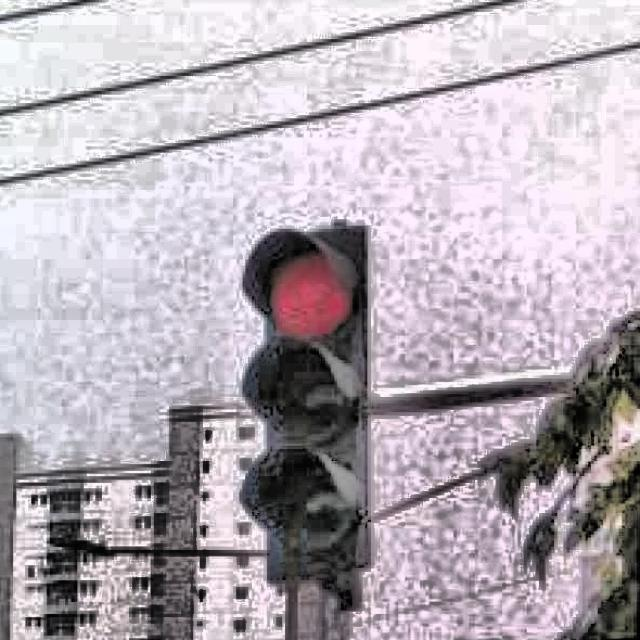red: (253, 223, 375, 578)
